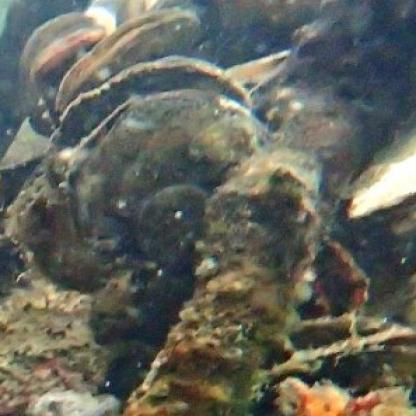3: (66, 90, 283, 260), (54, 11, 199, 111)
Oyster-Closed: (17, 14, 102, 101), (353, 126, 416, 221), (33, 21, 108, 82)
Oyster-Open: (122, 168, 320, 416), (226, 50, 288, 82)
